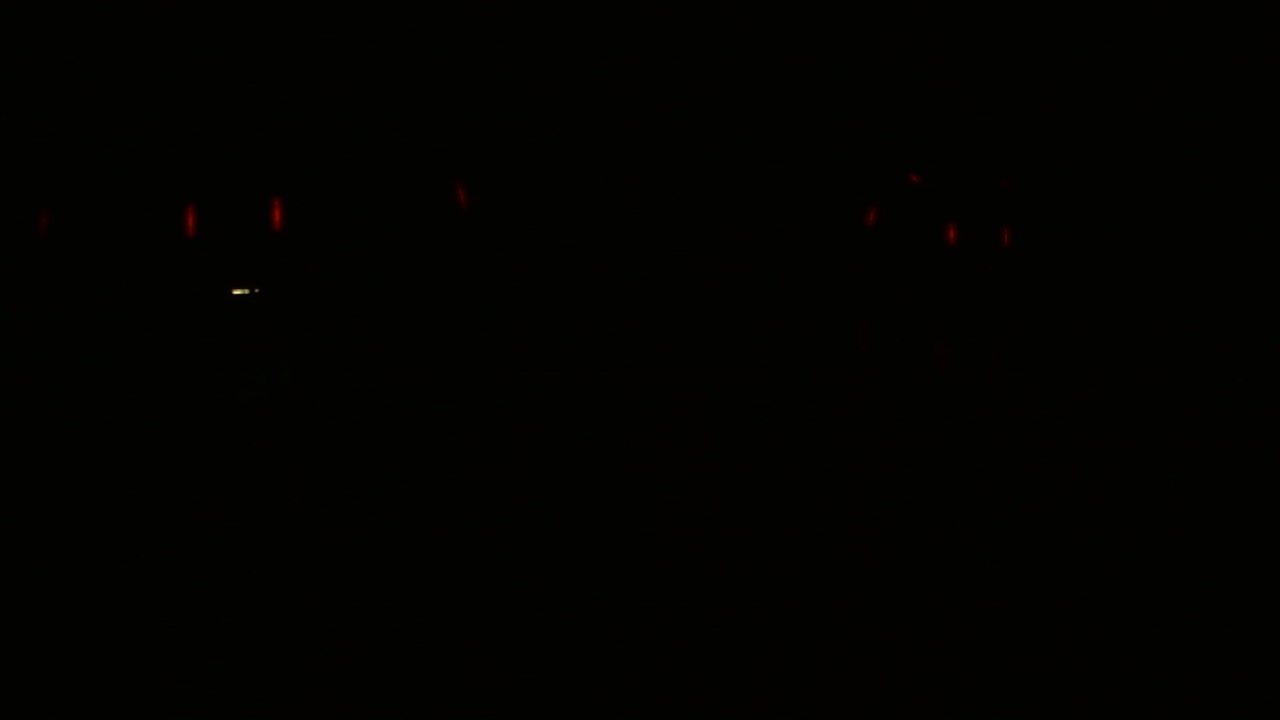pair1: (177, 194, 290, 239), (944, 222, 1013, 248)
